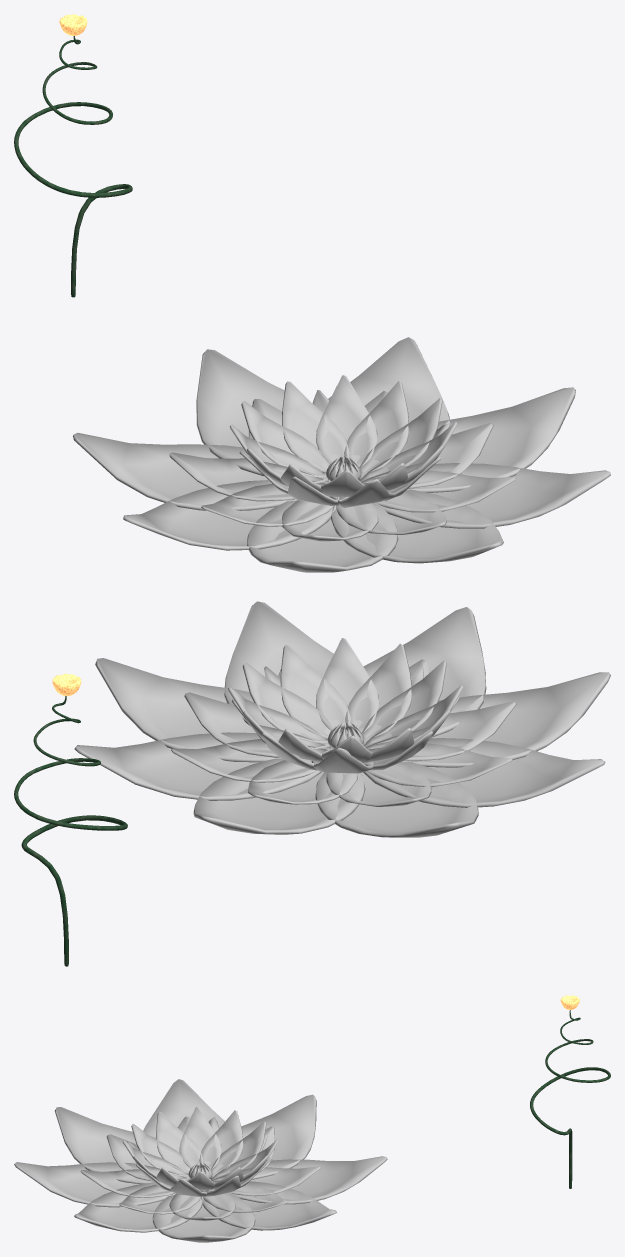
The model's file is Plantas.fbx.
3 renders of one model, top to bottom at view 1: azimuth 30°, elevation 25°; view 2: azimuth 150°, elevation 25°; view 3: azimuth 270°, elevation 25°, orthographic. The views are drawn at different scales.
Parts seen in each view (by area): view 1: Planta2, Planta1; view 2: Planta2, Planta1; view 3: Planta2, Planta1.
Part boxes in pixels (box(x1,y1,x2,y2)): Planta2: box(73, 337, 610, 572); Planta1: box(14, 14, 132, 297); Planta2: box(74, 601, 610, 837); Planta1: box(14, 673, 127, 966); Planta2: box(14, 1079, 387, 1242); Planta1: box(530, 995, 610, 1188).
Bounding box in the file's own units: 31.93 × 17.98 × 51.12.
